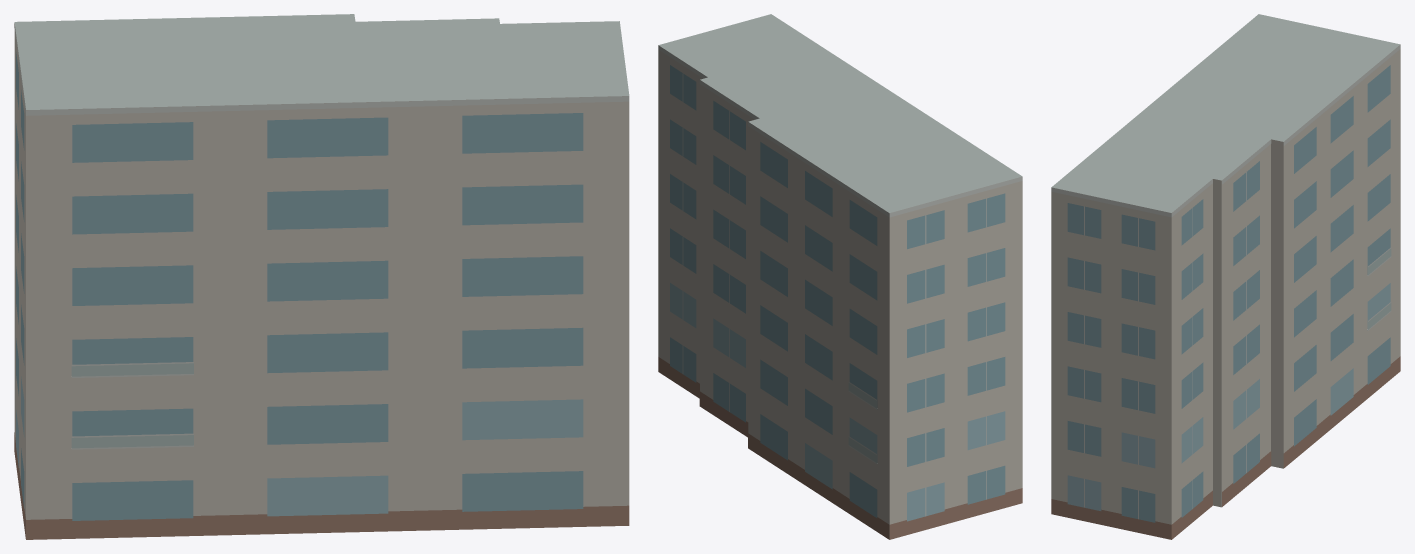
File: survey-upis-32657602.glb
3 renders of one model, left to right at view 1: azimuth 30°, elevation 25°; view 2: azimuth 150°, elevation 25°; view 3: azimuth 270°, elevation 25°, orthographic. The views are drawn at different scales.
Parts seen in each view (by area): view 1: survey-upis-32657602.tmp; view 2: survey-upis-32657602.tmp; view 3: survey-upis-32657602.tmp.
Part boxes in pixels (x1,y1,x2,y2): survey-upis-32657602.tmp: (14, 14, 629, 539); survey-upis-32657602.tmp: (658, 14, 1022, 539); survey-upis-32657602.tmp: (1051, 14, 1400, 539).
Size of the model in its own units: 23.92 by 18.3 by 17.73.
